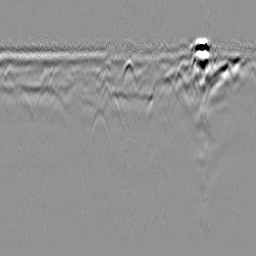cavity: (119, 55, 138, 86)
